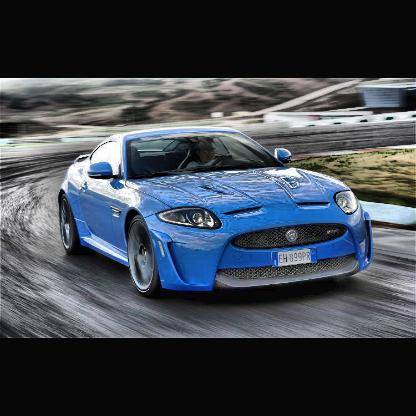Jaguar XK XKR 2012: (45, 118, 392, 320)
